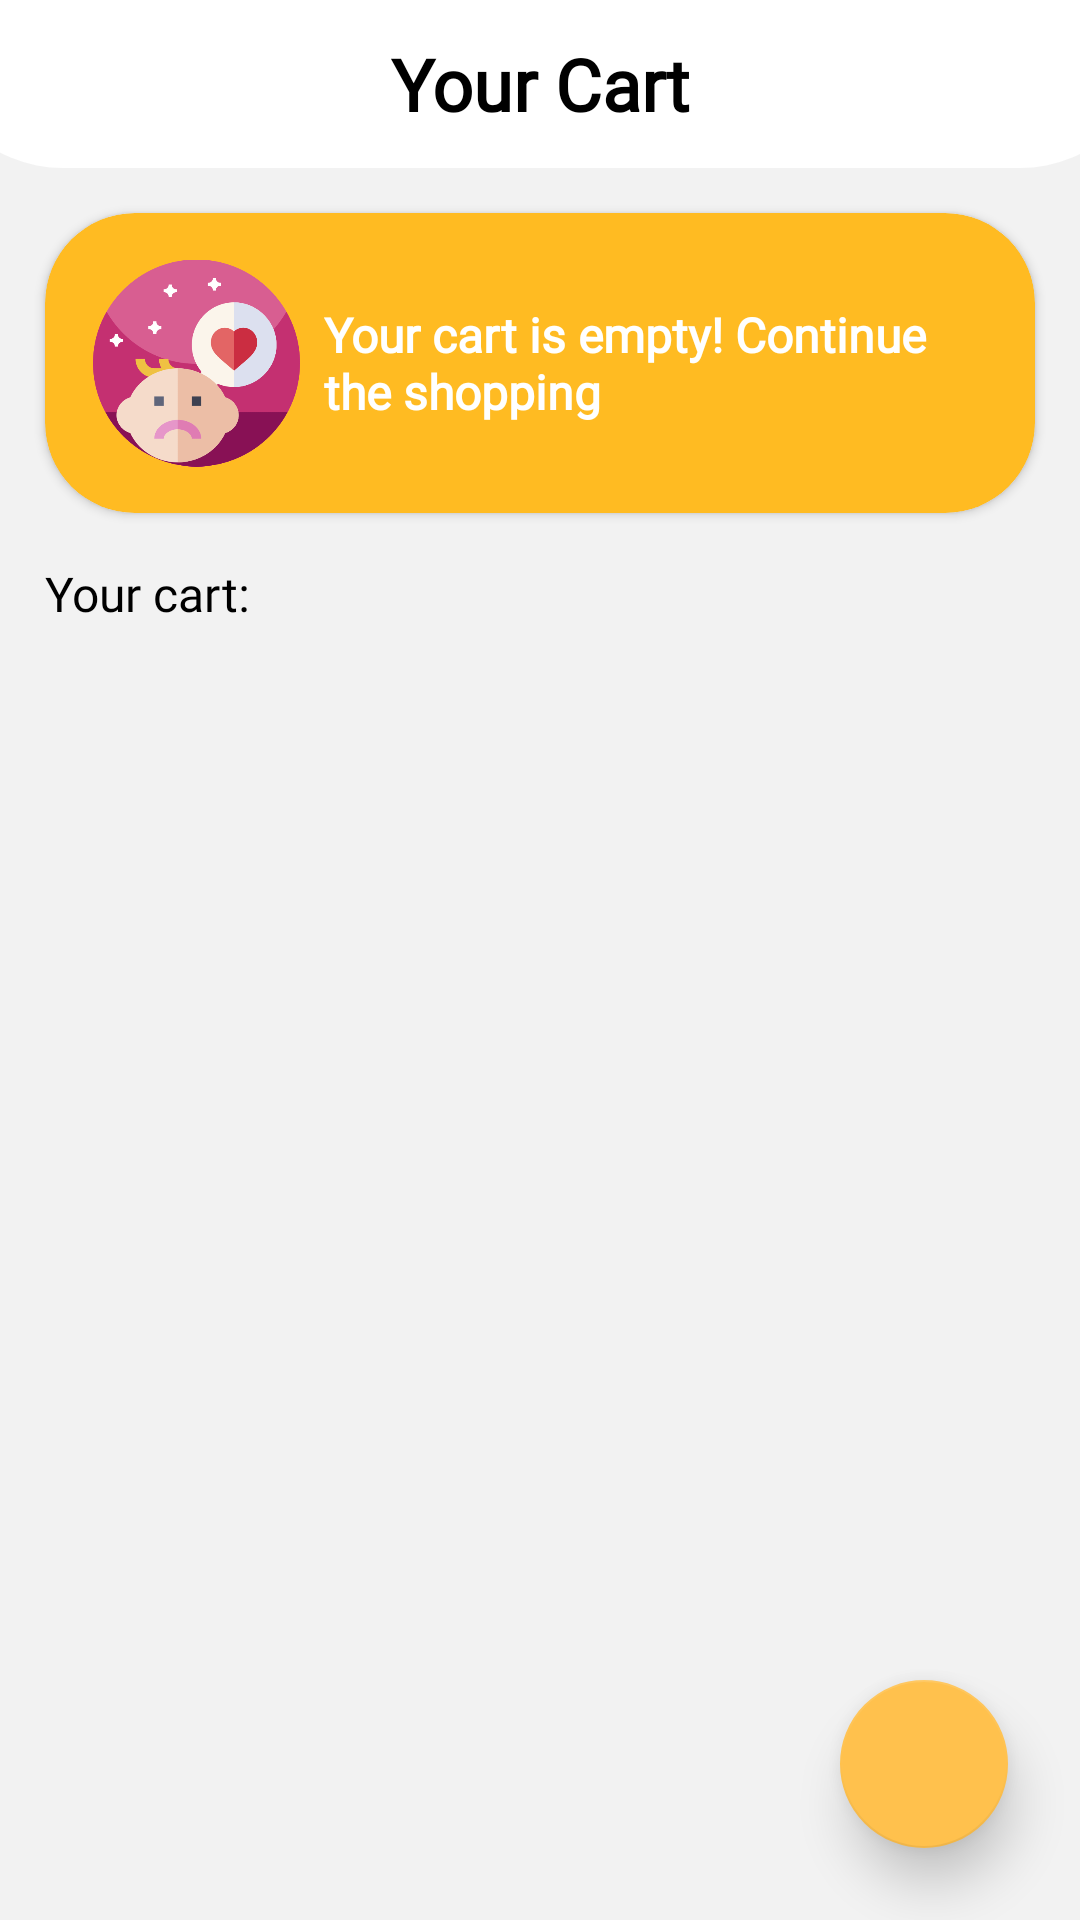

Named icons in this screenshot (1080 × 1920) and their centers, [x,y]:
unhappy: [196,363]
